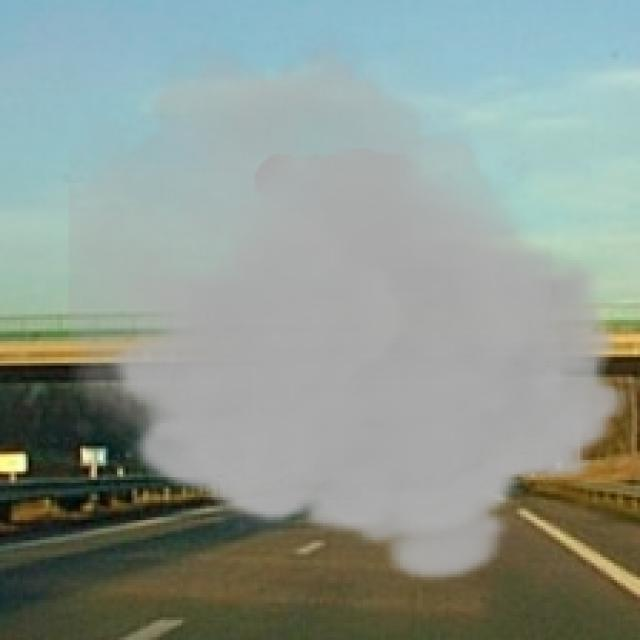Smoke: (69, 28, 632, 586)
